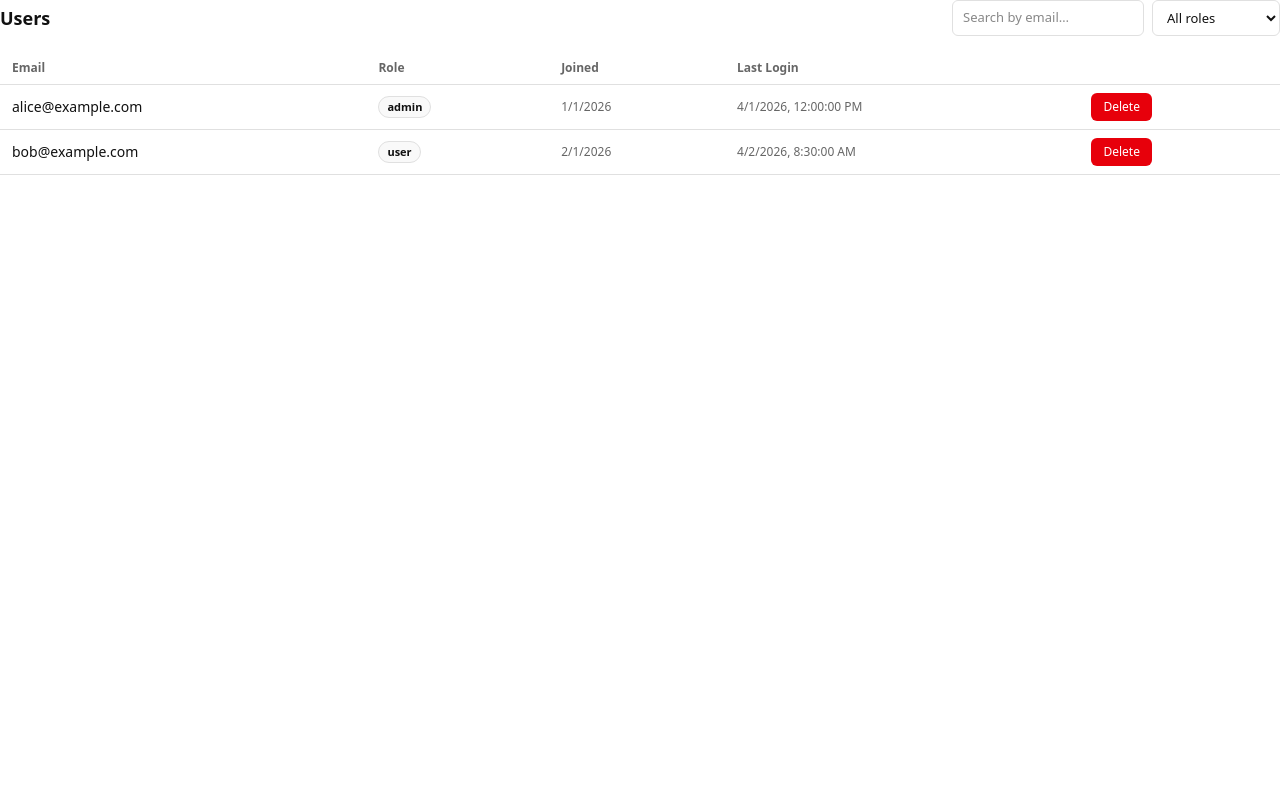
Test: UsersPanel › opens confirm dialog when Delete clicked
The width and height of the screenshot is (1280, 800).
Step 1. Click the button "Delete" in the row of "alice@example.com" → click(1122, 107), box [1092, 93, 1152, 121]
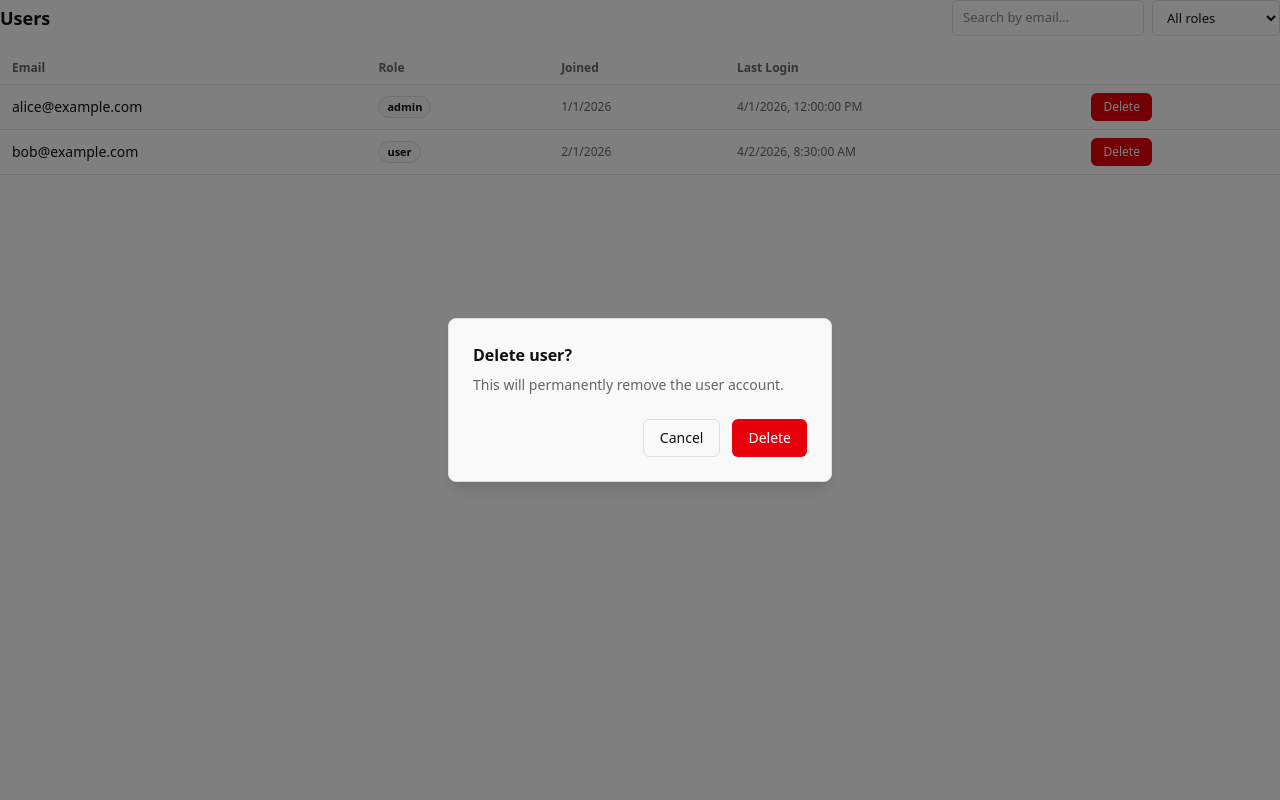
Now the heading "Delete user?" is shown, box [473, 344, 572, 366]
